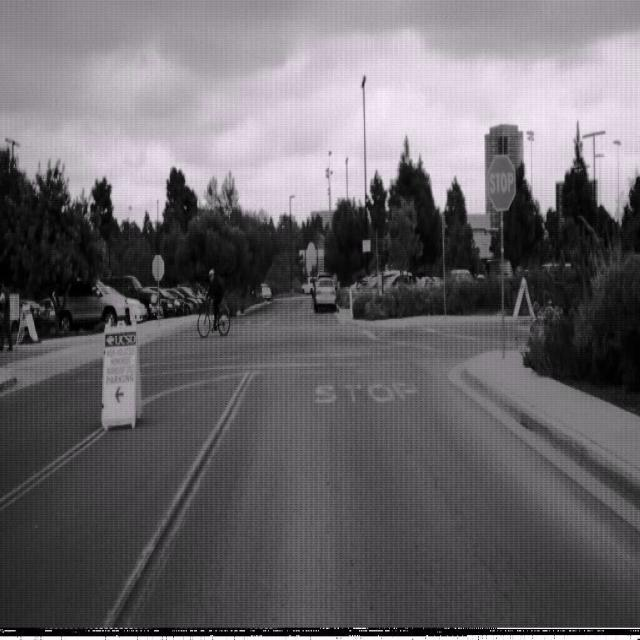stop_sign: (487, 153, 516, 211)
